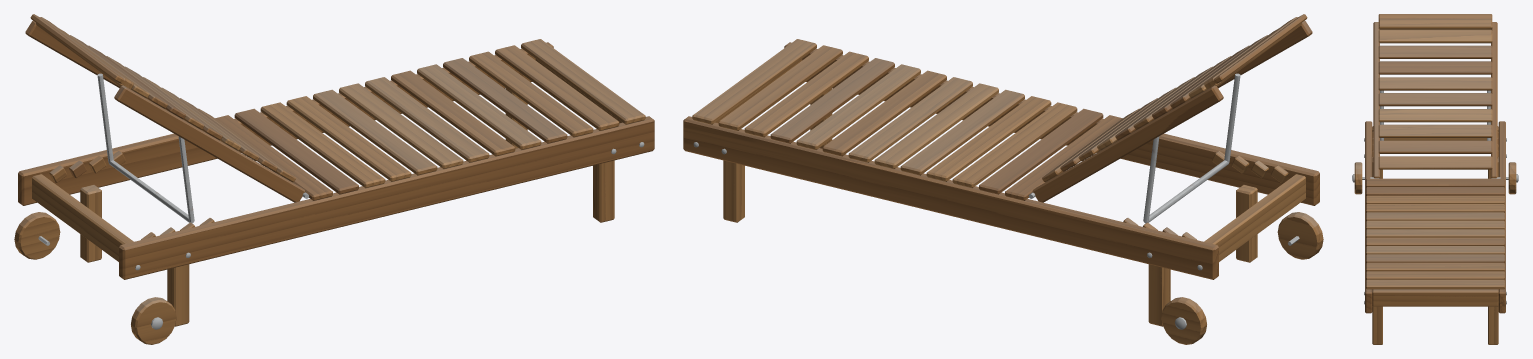
Rendered from DeckChair_A.gltf.
3 views of the same model, side by side, from view 1: azimuth 30°, elevation 25°; view 2: azimuth 150°, elevation 25°; view 3: azimuth 270°, elevation 25° (orthographic). The views are drawn at different scales.
Visible parts, largest first — view 1: DeckChair_A; view 2: DeckChair_A; view 3: DeckChair_A.
Boxes of the visible parts, x1,y1,x2,y2 form: DeckChair_A: [14, 14, 654, 344]; DeckChair_A: [683, 14, 1323, 344]; DeckChair_A: [1352, 14, 1518, 344].
Bounding box in the file's own units: 1.9 × 0.8885 × 0.776.
2 materials, 2 textured.
